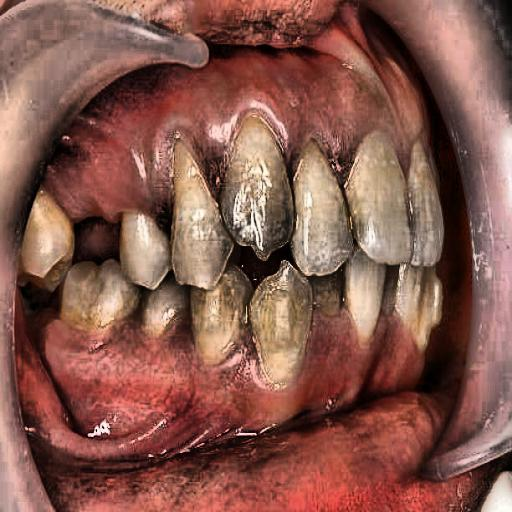Gingivitis: (105, 40, 417, 163), (88, 332, 376, 422)
